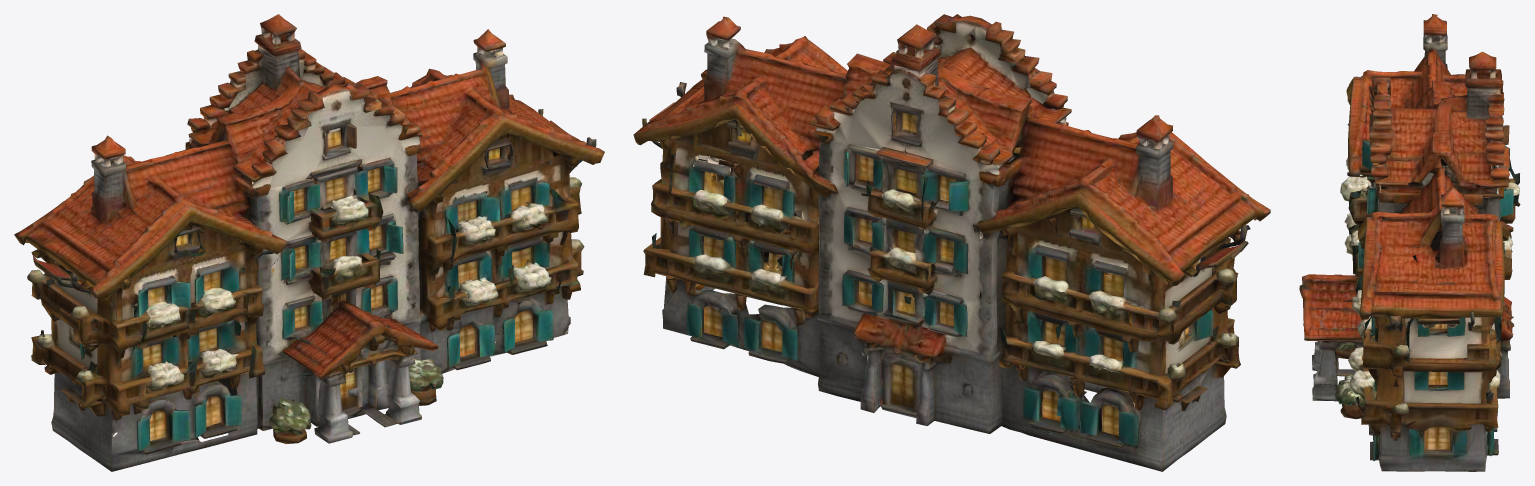
3 views of the same model, side by side, from view 1: azimuth 30°, elevation 25°; view 2: azimuth 150°, elevation 25°; view 3: azimuth 270°, elevation 25° (orthographic). The views are drawn at different scales.
Parts seen in each view (by area): view 1: alpine__skyscraper_3__native_mobile; view 2: alpine__skyscraper_3__native_mobile; view 3: alpine__skyscraper_3__native_mobile.
Part boxes in pixels (x1,y1,x2,y2): alpine__skyscraper_3__native_mobile: (14,14,604,471); alpine__skyscraper_3__native_mobile: (633,14,1270,471); alpine__skyscraper_3__native_mobile: (1299,14,1520,471).
Size of the model in its own units: 1 by 0.6472 by 0.3874.
Materials: 1 (1 with a texture image).
